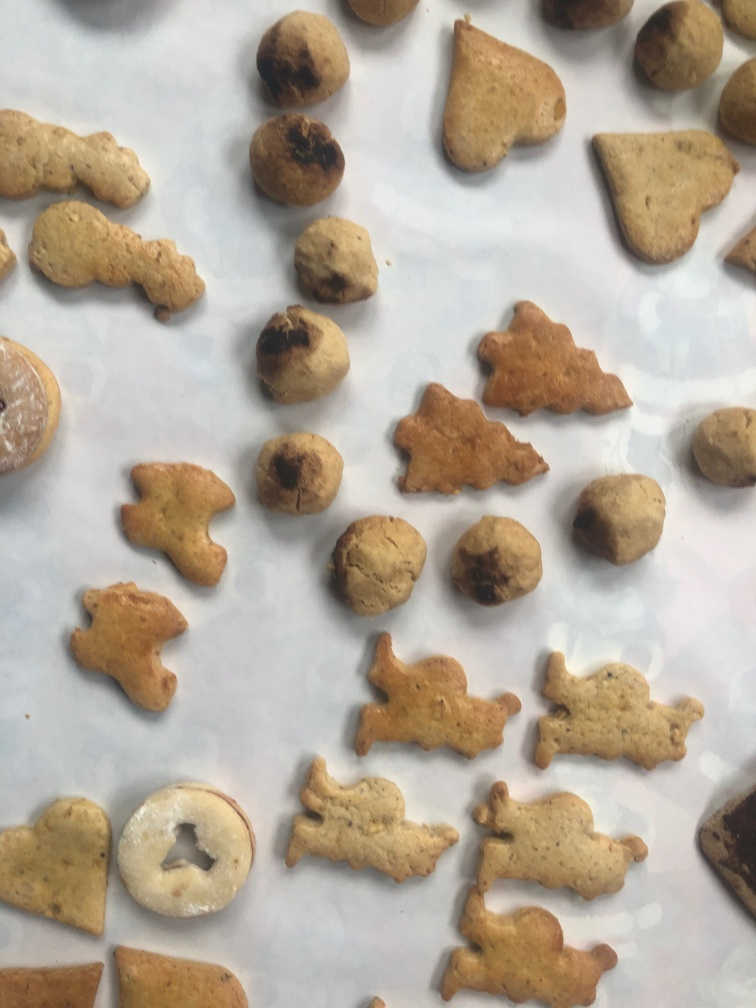christmas shortbread with jam: (112, 779, 260, 924), (4, 329, 64, 488)
christmas tree: (473, 293, 636, 425), (387, 378, 549, 504)
heart: (581, 123, 749, 266), (439, 15, 567, 176), (5, 789, 114, 946), (105, 936, 256, 1008)
lamb: (65, 572, 187, 726), (110, 453, 238, 593)
santa claus: (521, 643, 708, 788), (280, 752, 459, 902), (342, 622, 519, 768), (470, 778, 658, 908), (431, 883, 619, 1008)
snowball: (326, 514, 429, 622), (250, 7, 353, 113), (442, 511, 545, 615), (566, 468, 668, 572), (254, 304, 352, 412), (286, 206, 381, 310), (248, 115, 347, 209), (631, 1, 726, 95), (250, 431, 348, 522), (686, 402, 756, 500)
snowman: (27, 196, 209, 333), (1, 104, 155, 215)
